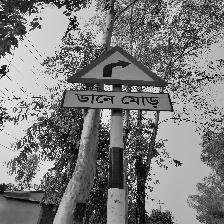Right-turn: (62, 46, 173, 113)
